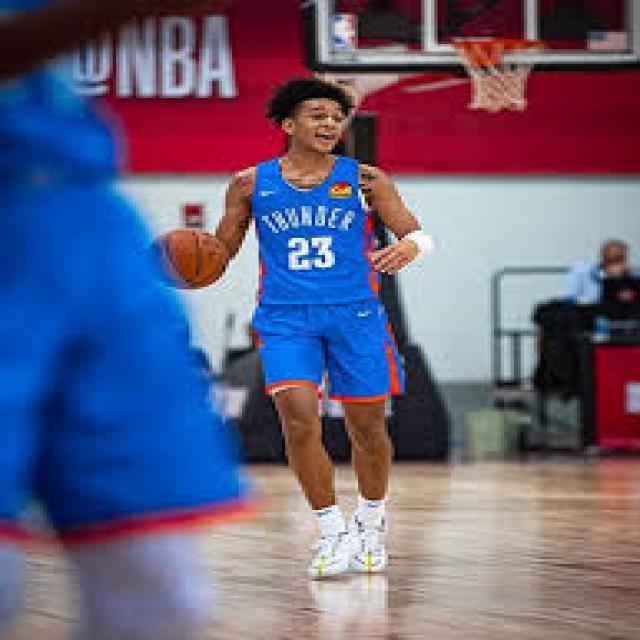basketball: (142, 230, 228, 290)
rim: (450, 39, 550, 49)
